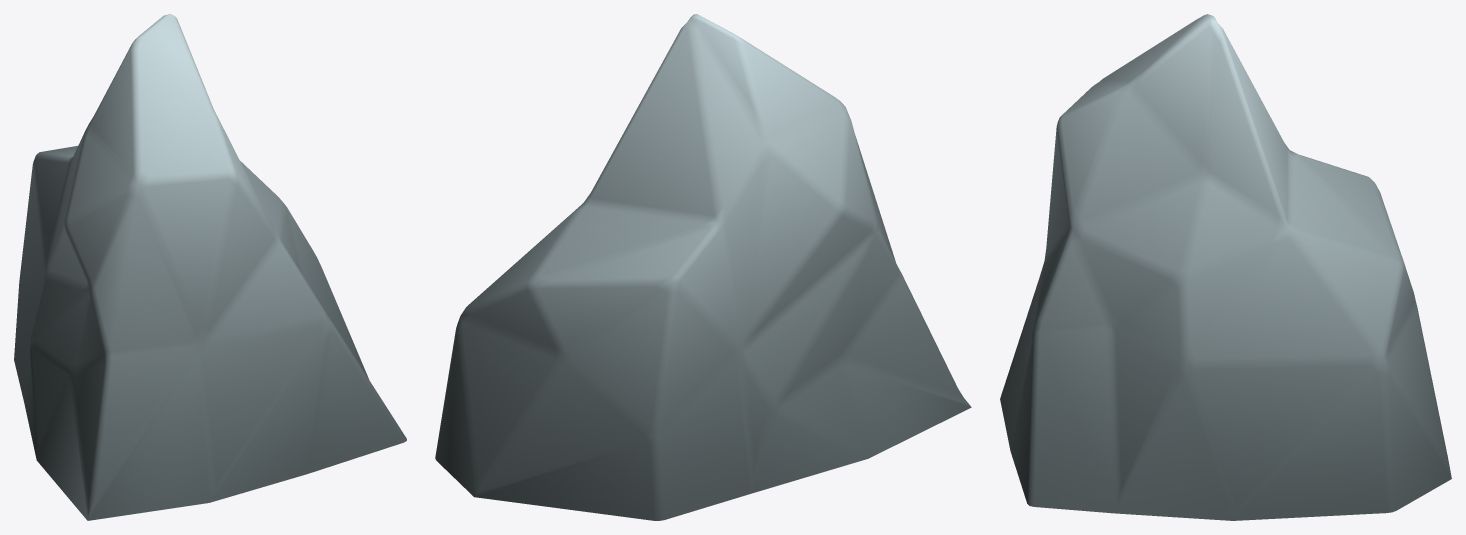
Rendered from Rock_01.fbx.
3 views of the same model, side by side, from view 1: azimuth 30°, elevation 25°; view 2: azimuth 150°, elevation 25°; view 3: azimuth 270°, elevation 25° (orthographic). The views are drawn at different scales.
Parts seen in each view (by area): view 1: Rock_01; view 2: Rock_01; view 3: Rock_01.
Boxes of the visible parts, left/top/right/bottom form: Rock_01: left=14, top=14, right=406, bottom=520; Rock_01: left=435, top=14, right=971, bottom=520; Rock_01: left=1000, top=14, right=1451, bottom=520.
Size of the model in its own units: 2.21 by 2.4 by 2.38.
1 material, 1 textured.
